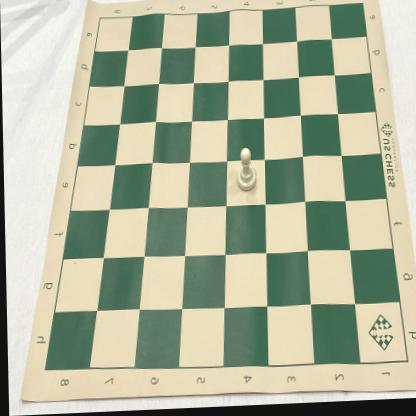white-pawn: (236, 149, 257, 195)
